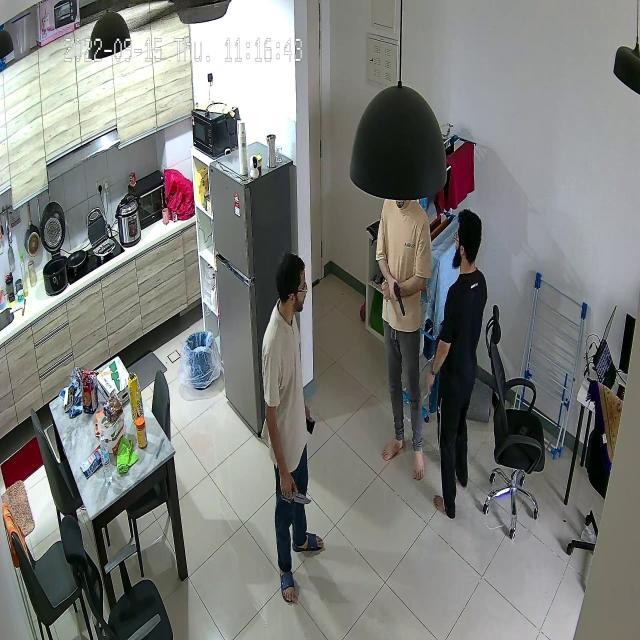Gun: (389, 268, 419, 320)
Knife: (278, 477, 322, 511)
